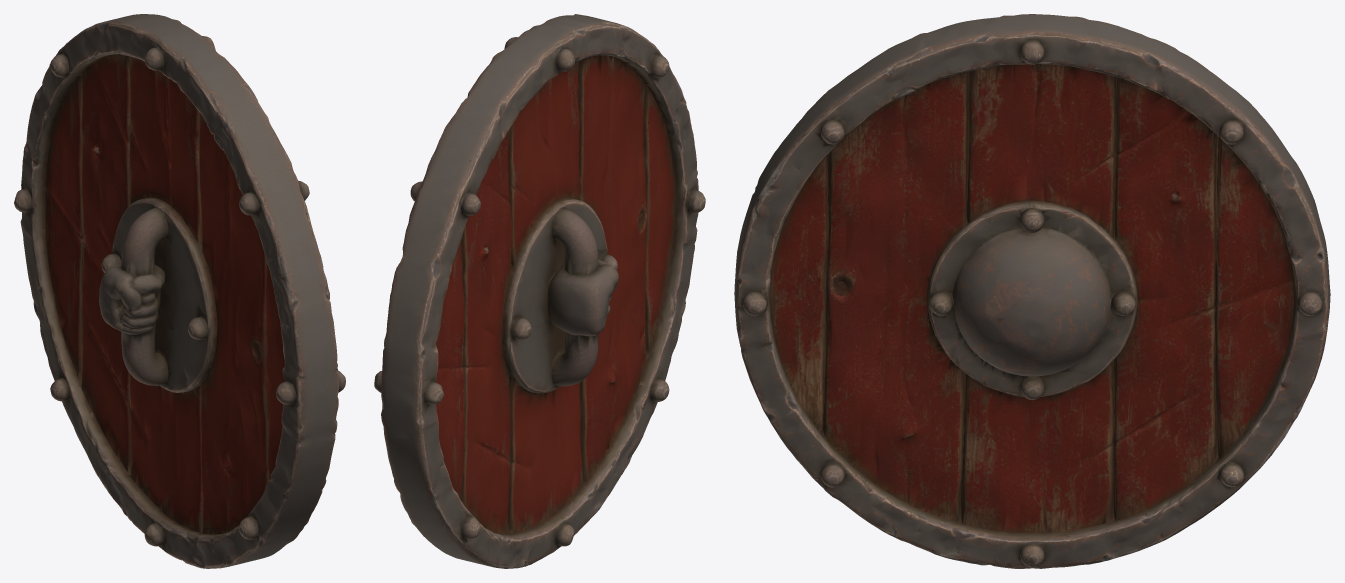
The model's file is shield_oak.glb.
The picture shows the model from 3 angles, left to right: view 1: azimuth 30°, elevation 25°; view 2: azimuth 150°, elevation 25°; view 3: azimuth 270°, elevation 25°; orthographic projection. The views are drawn at different scales.
Parts seen in each view (by area): view 1: weapon; view 2: weapon; view 3: weapon.
Part boxes in pixels (x1,y1,x2,y2): weapon: (14,14,345,568); weapon: (374,14,705,568); weapon: (734,14,1330,568).
Size of the model in its own units: 0.2811 by 0.9978 by 1.
Materials: 1 (1 with a texture image).
